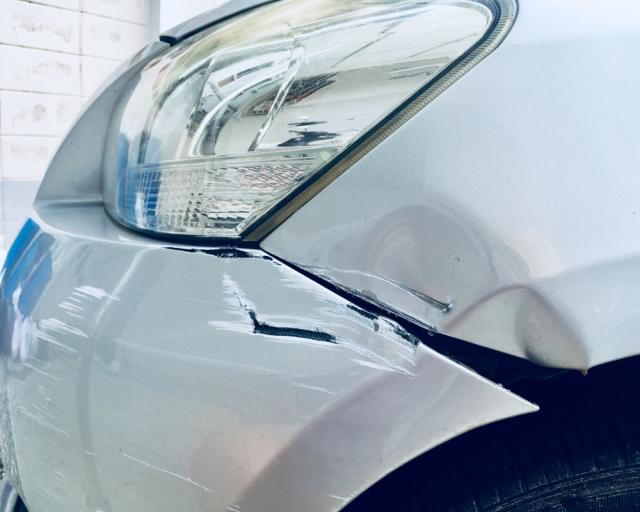dent: (293, 200, 593, 369)
scratch: (158, 245, 421, 382), (14, 277, 121, 512), (114, 451, 218, 496)
